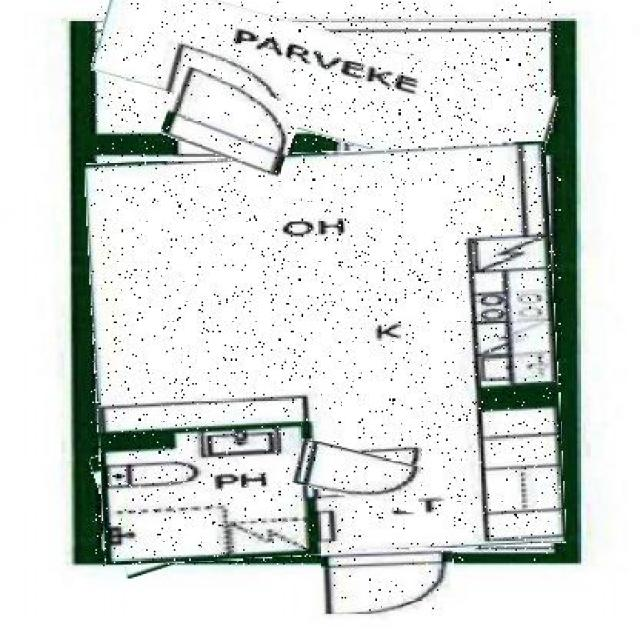door: (90, 146, 562, 560), (92, 2, 557, 165), (97, 412, 309, 566)
window: (164, 75, 298, 168), (321, 550, 454, 612), (294, 446, 423, 505)
zone: (339, 119, 526, 170)
